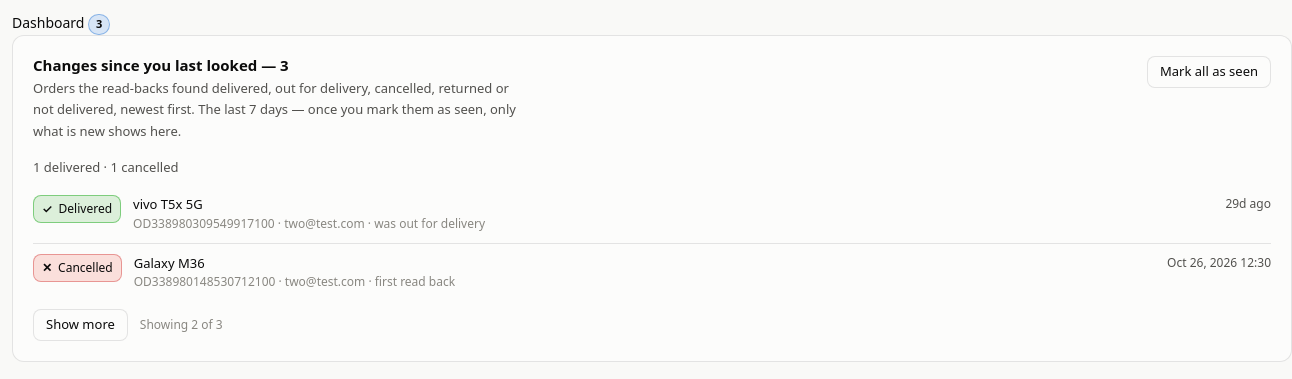
Scenario: after a change of who is signed in › drops the rows Show more asked for under the sign-in before
Click the button "Show more".
click(80, 325)  # box [33,309,128,341]
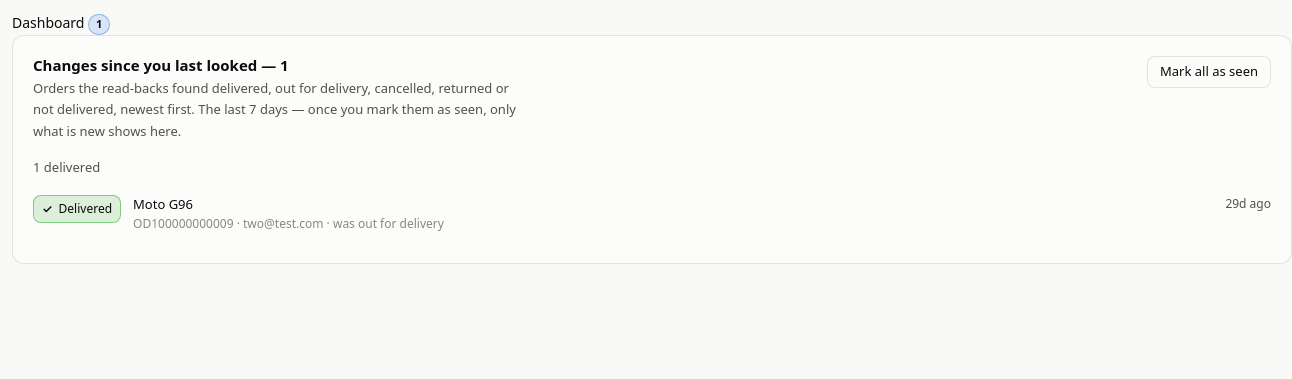
Expected: the link "Moto G96" is shown, [133,195,193,213]
